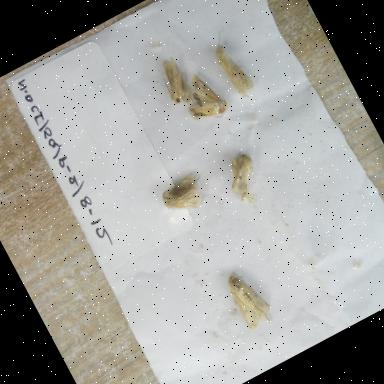abw: (212, 258, 282, 340), (197, 20, 262, 106), (170, 60, 237, 132), (150, 160, 219, 226), (212, 141, 274, 209), (148, 48, 201, 112)
